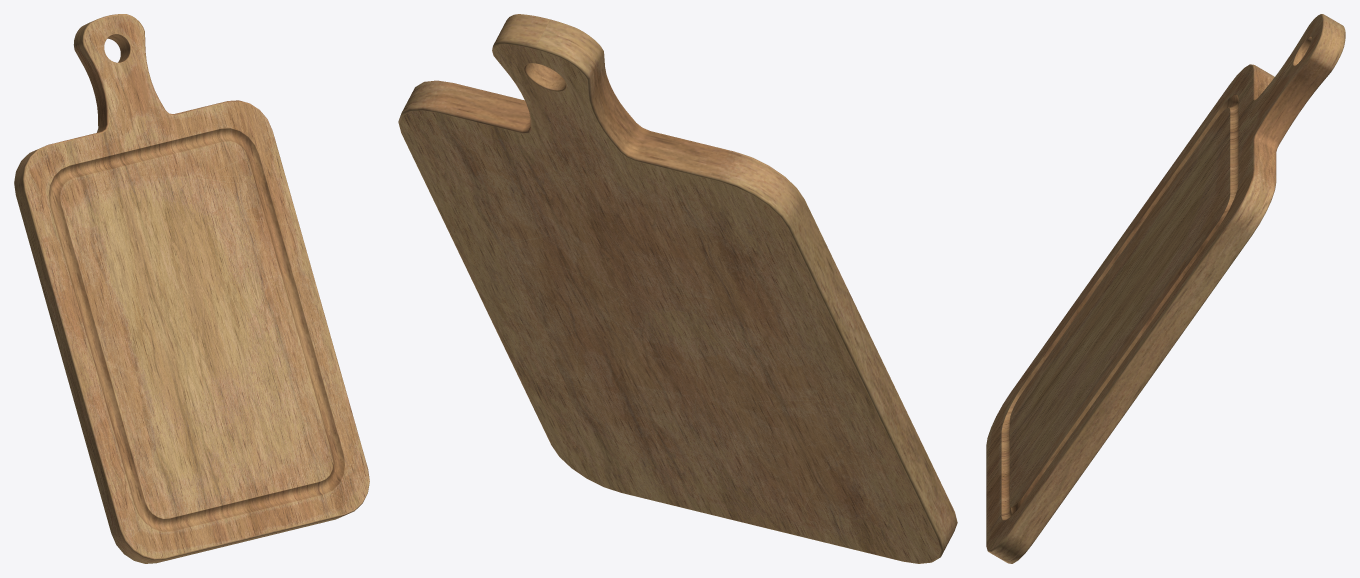
The model's file is obj_cutting_board_asset_ver_2_c9094b.glb.
3 renders of one model, left to right at view 1: azimuth 30°, elevation 25°; view 2: azimuth 150°, elevation 25°; view 3: azimuth 270°, elevation 25°, orthographic. The views are drawn at different scales.
Visible parts, largest first — view 1: obj_cutting_board_asset_ver_2_c9094b; view 2: obj_cutting_board_asset_ver_2_c9094b; view 3: obj_cutting_board_asset_ver_2_c9094b.
Part boxes in pixels (x1,y1,x2,y2): obj_cutting_board_asset_ver_2_c9094b: [14, 14, 369, 563]; obj_cutting_board_asset_ver_2_c9094b: [398, 14, 957, 563]; obj_cutting_board_asset_ver_2_c9094b: [986, 14, 1345, 563].
Bounding box in the file's own units: 0.2448 × 0.4 × 0.2673.
1 material, 1 textured.
